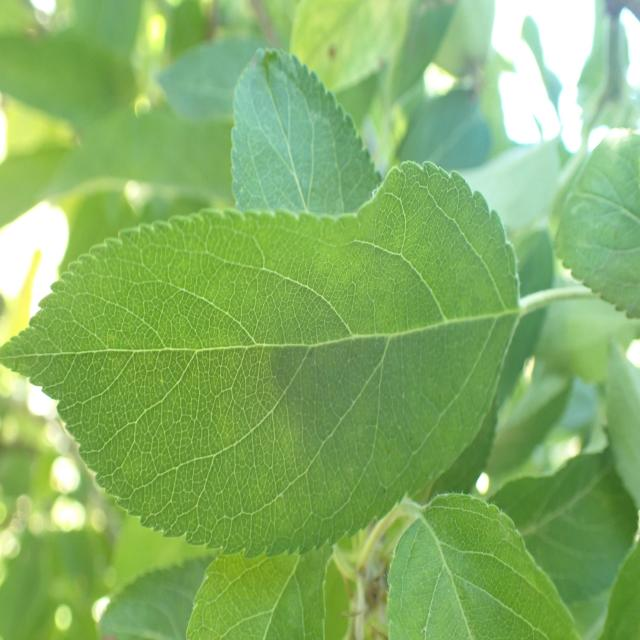healthy: (1, 162, 522, 560), (385, 491, 582, 640), (230, 46, 383, 220), (552, 127, 640, 320), (186, 542, 335, 640)
